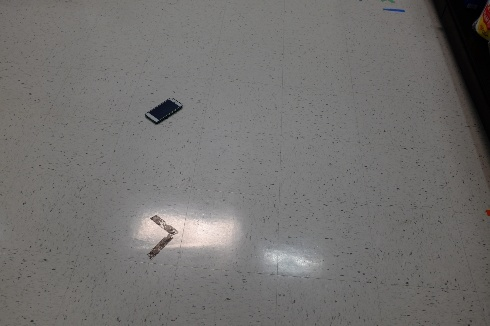phone: (140, 96, 189, 128)
